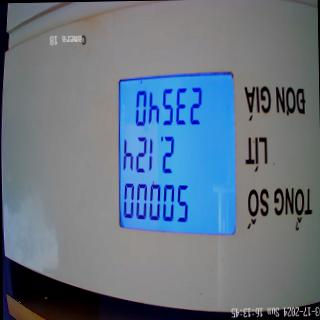screen: (114, 71, 240, 243)
